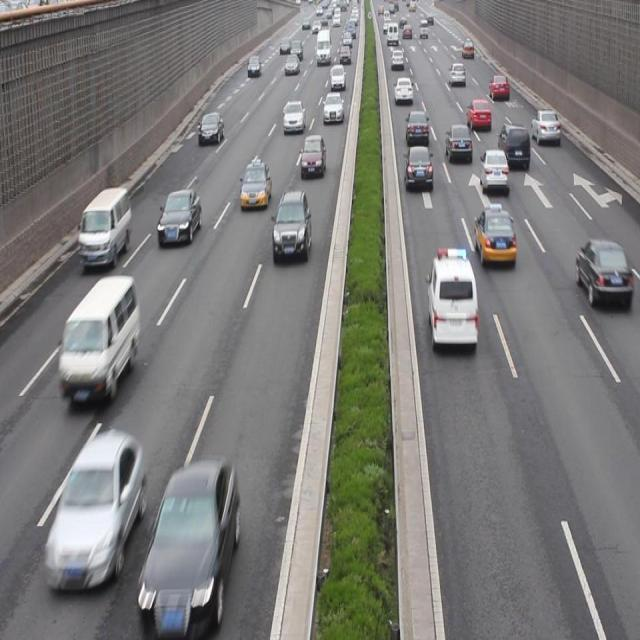car: (43, 432, 144, 590), (137, 459, 240, 610), (573, 236, 628, 309), (270, 188, 311, 261), (474, 206, 516, 268), (155, 189, 200, 245), (496, 120, 529, 172), (239, 159, 271, 210), (478, 148, 509, 196), (402, 144, 432, 193), (444, 122, 472, 165), (300, 134, 325, 178), (530, 108, 558, 146), (404, 108, 427, 147), (198, 110, 223, 145), (465, 99, 490, 131), (282, 99, 304, 134)
truck: (60, 278, 139, 400), (427, 246, 478, 350), (79, 187, 131, 269)
